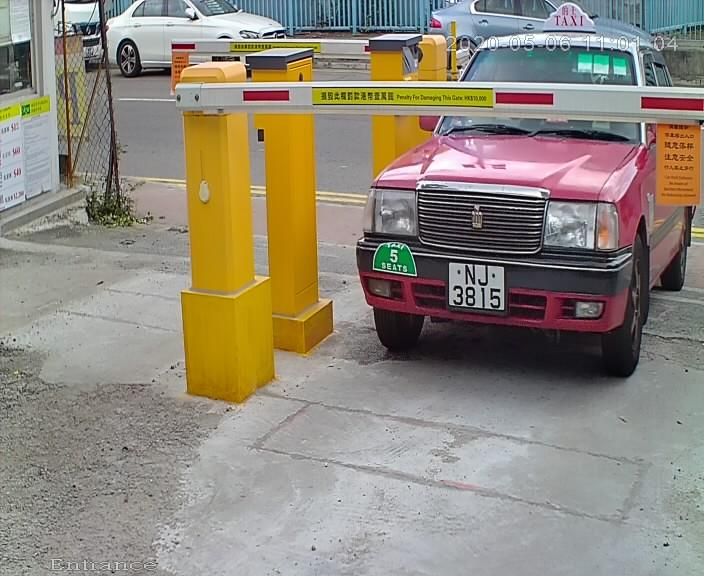License Plate: (444, 260, 513, 319)
